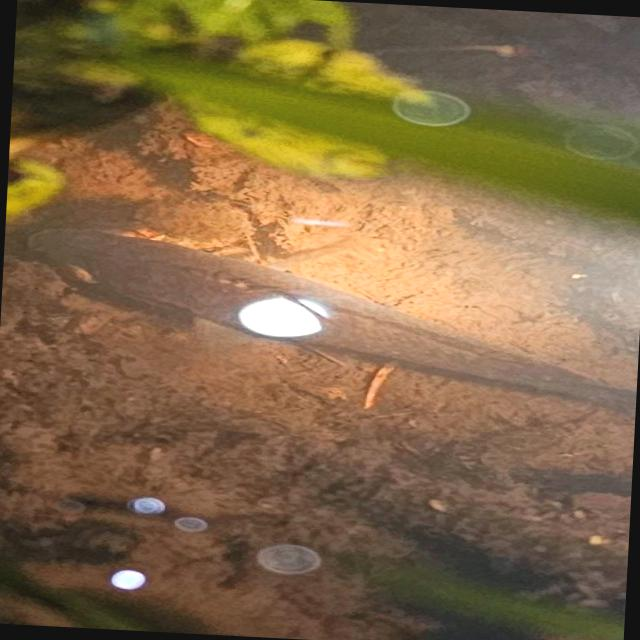Gunes Levregi: (9, 214, 630, 420)
